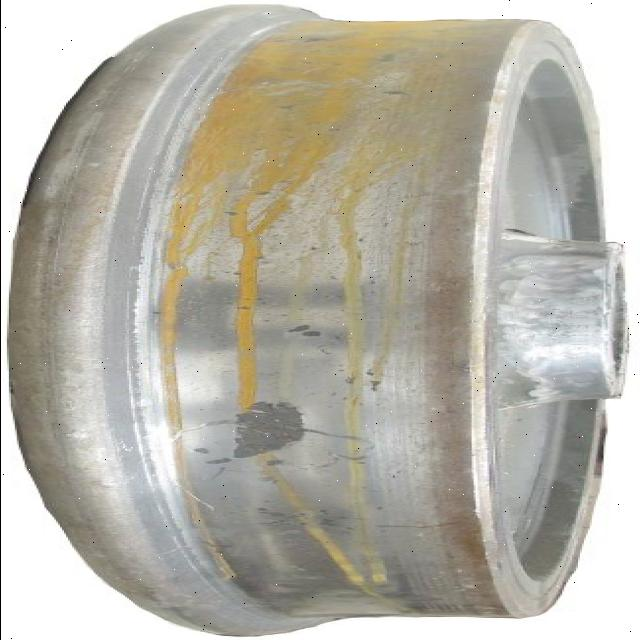geshang: (218, 398, 310, 458)
